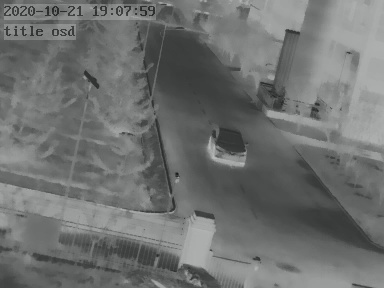vehicle: (207, 125, 248, 171)
